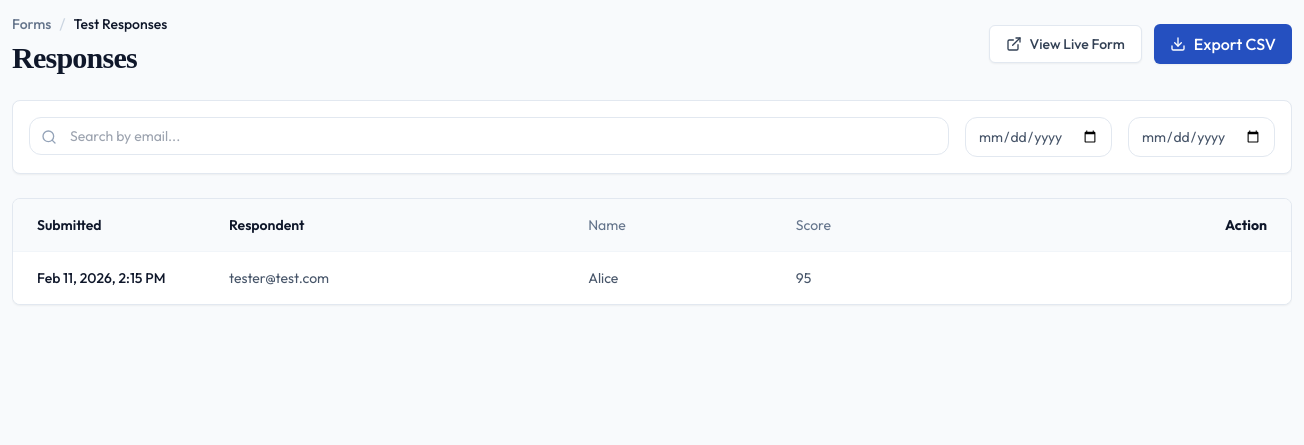
Scenario: ResponsesPage › filters responses by search text
Type "nomatch" into the field with placeholder "Search by email...".
click(489, 136); type("nomatch")  # box [29, 117, 949, 155]
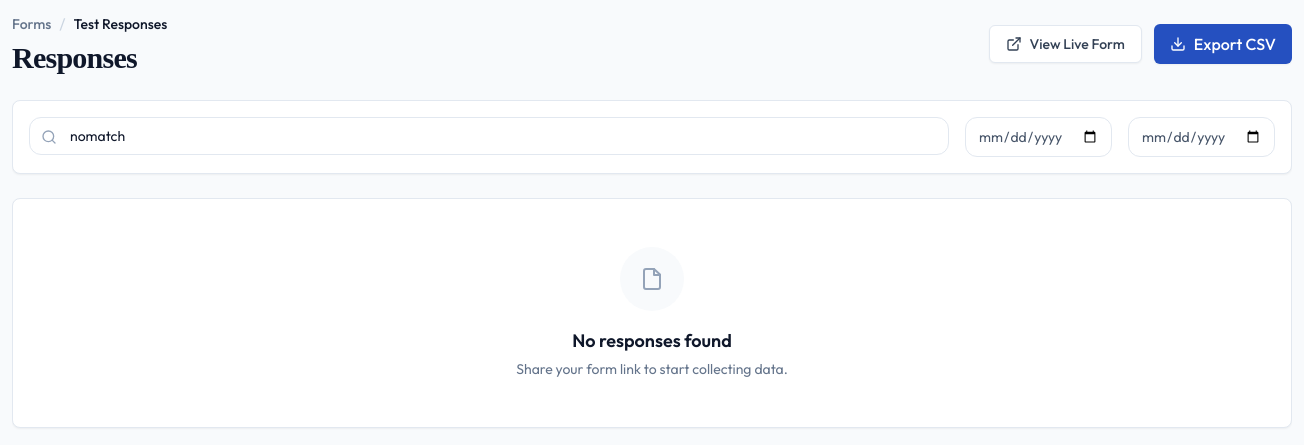
Now the text "No responses found" is shown, box [572, 329, 732, 352]
